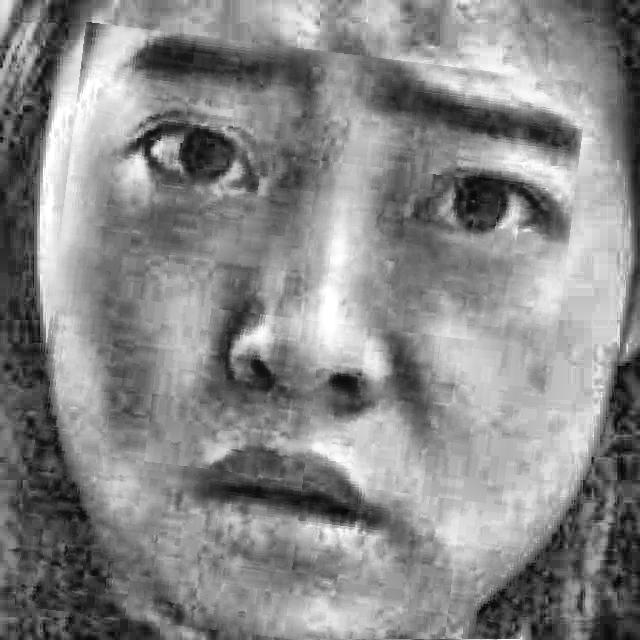fear: (32, 36, 571, 640)
